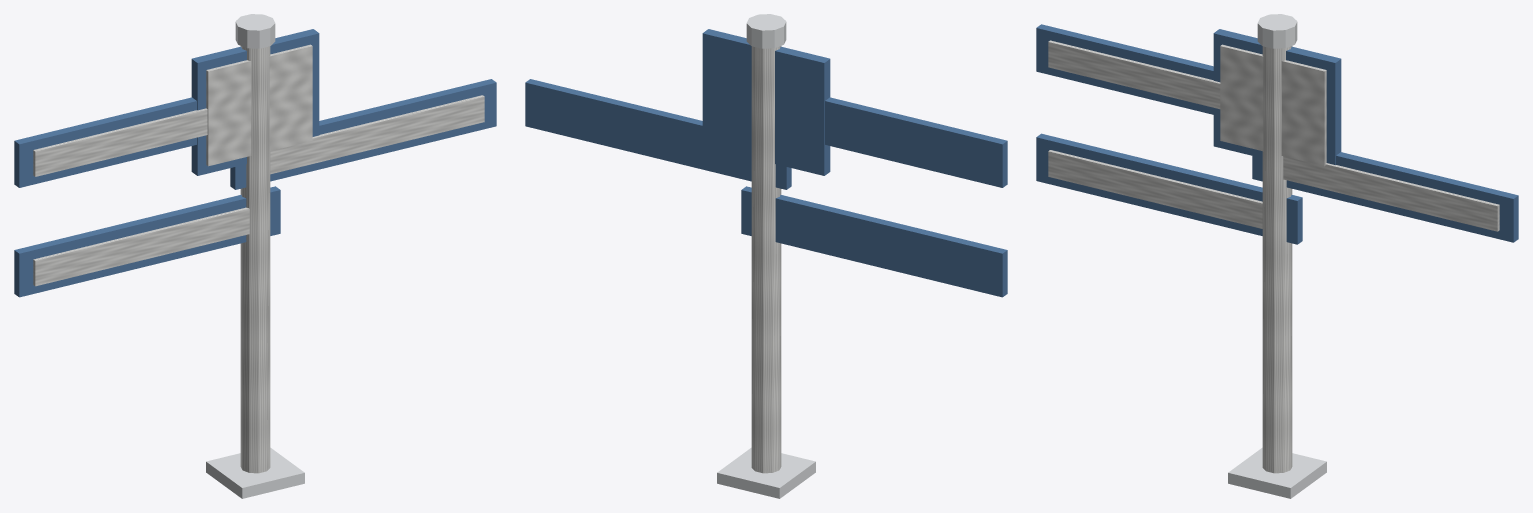
The model's file is cruise-ship-deck-and-lounge-cruise-ship-deck-and-loung-f4a44821__38431.glb.
The picture shows the model from 3 angles, left to right: view 1: azimuth 30°, elevation 25°; view 2: azimuth 150°, elevation 25°; view 3: azimuth 330°, elevation 25°; orthographic projection.
Visible parts, largest first — view 1: cruise-ship-deck-and-lounge-signage-post; view 2: cruise-ship-deck-and-lounge-signage-post; view 3: cruise-ship-deck-and-lounge-signage-post.
Boxes of the visible parts, x1=… form: cruise-ship-deck-and-lounge-signage-post: x1=14, y1=14, x2=496, y2=498; cruise-ship-deck-and-lounge-signage-post: x1=525, y1=14, x2=1007, y2=498; cruise-ship-deck-and-lounge-signage-post: x1=1036, y1=14, x2=1518, y2=498.
Bounding box in the file's own units: 2.74 × 2.5 × 0.3601.
Materials: 3 (1 with a texture image).
